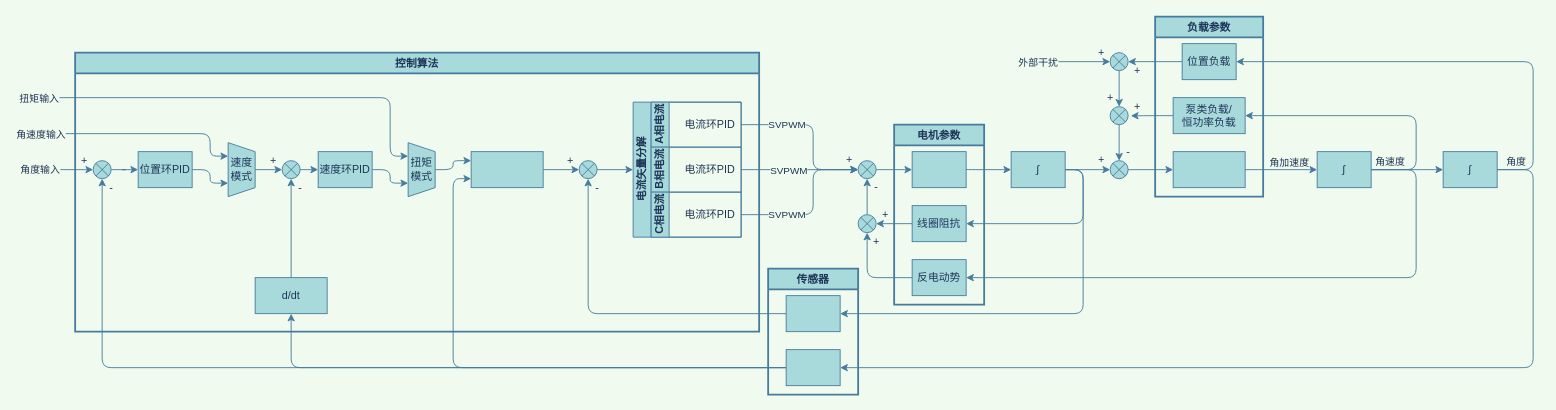
The diagram is 1556 pixels wide and 410 high, and some of its shapes have lost their labels. The shapes that lost their labels are listed below. From the top down, each one's centre as x and y in pixels, then its label:
pixel 506 169: 矢量变换
pixel 938 169: 线圈感抗
pixel 1208 169: 负载转动惯量
pixel 812 313: 电流采样
pixel 812 367: 编码器
